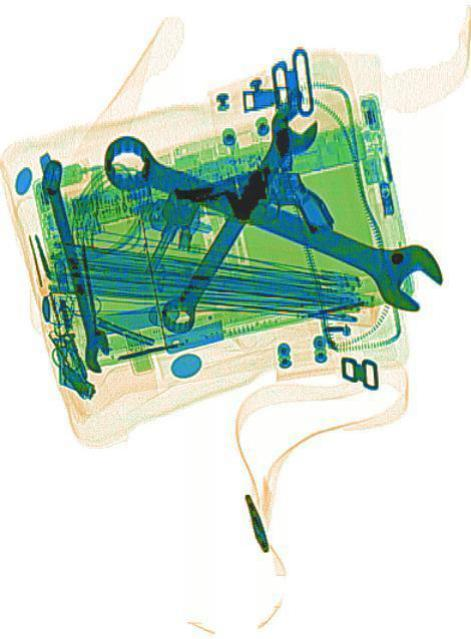Gun: (165, 152, 332, 266)
Wrench: (92, 119, 447, 322), (148, 91, 319, 346), (26, 149, 113, 374)
